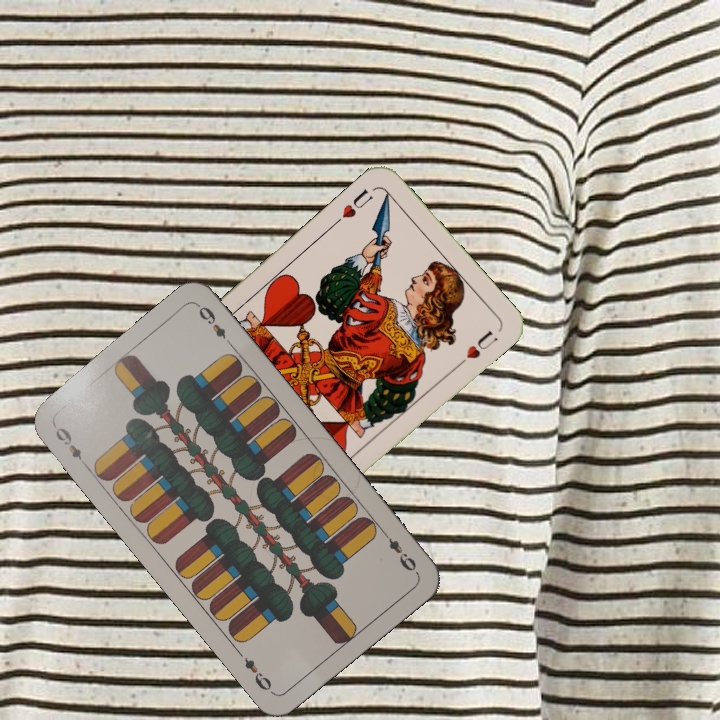E9: (378, 526, 420, 576), (51, 423, 91, 471)
HU: (329, 185, 376, 228)
